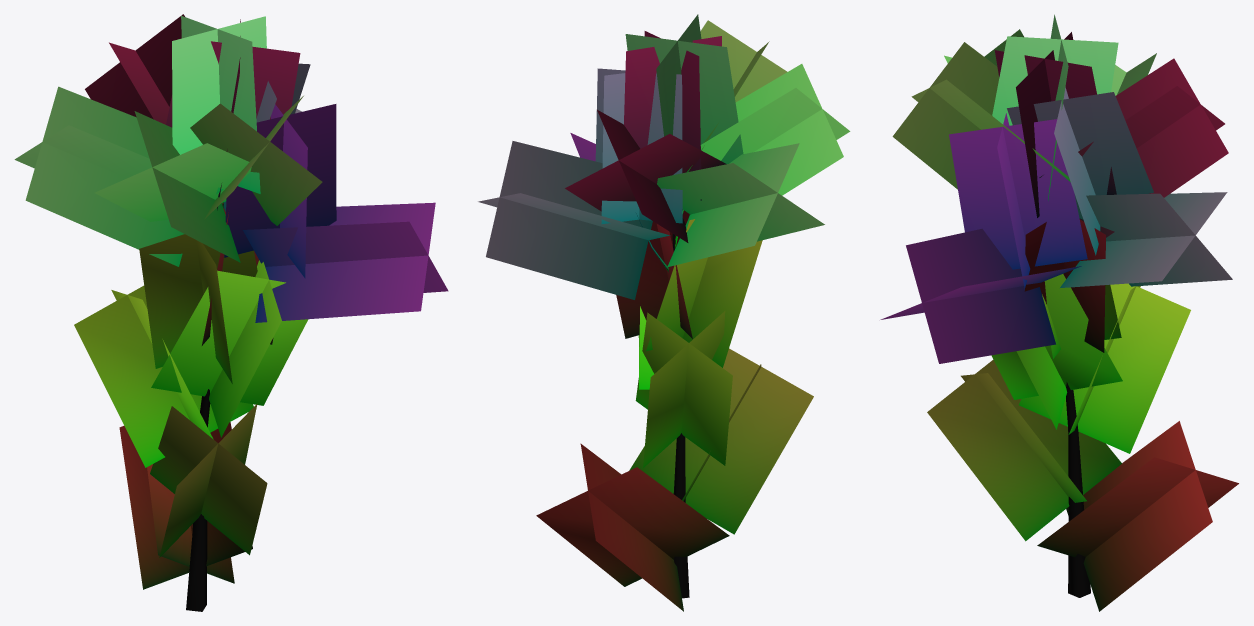
Rendered from SuperTree_29.fbx.
3 renders of one model, left to right at view 1: azimuth 30°, elevation 25°; view 2: azimuth 150°, elevation 25°; view 3: azimuth 270°, elevation 25°, orthographic. The views are drawn at different scales.
Parts seen in each view (by area): view 1: SuperTree_29; view 2: SuperTree_29; view 3: SuperTree_29.
Part boxes in pixels (box(x1,y1,x2,y2)): SuperTree_29: box(14, 14, 448, 611); SuperTree_29: box(478, 14, 850, 611); SuperTree_29: box(880, 14, 1238, 611).
Size of the model in its own units: 575 by 945 by 546.
